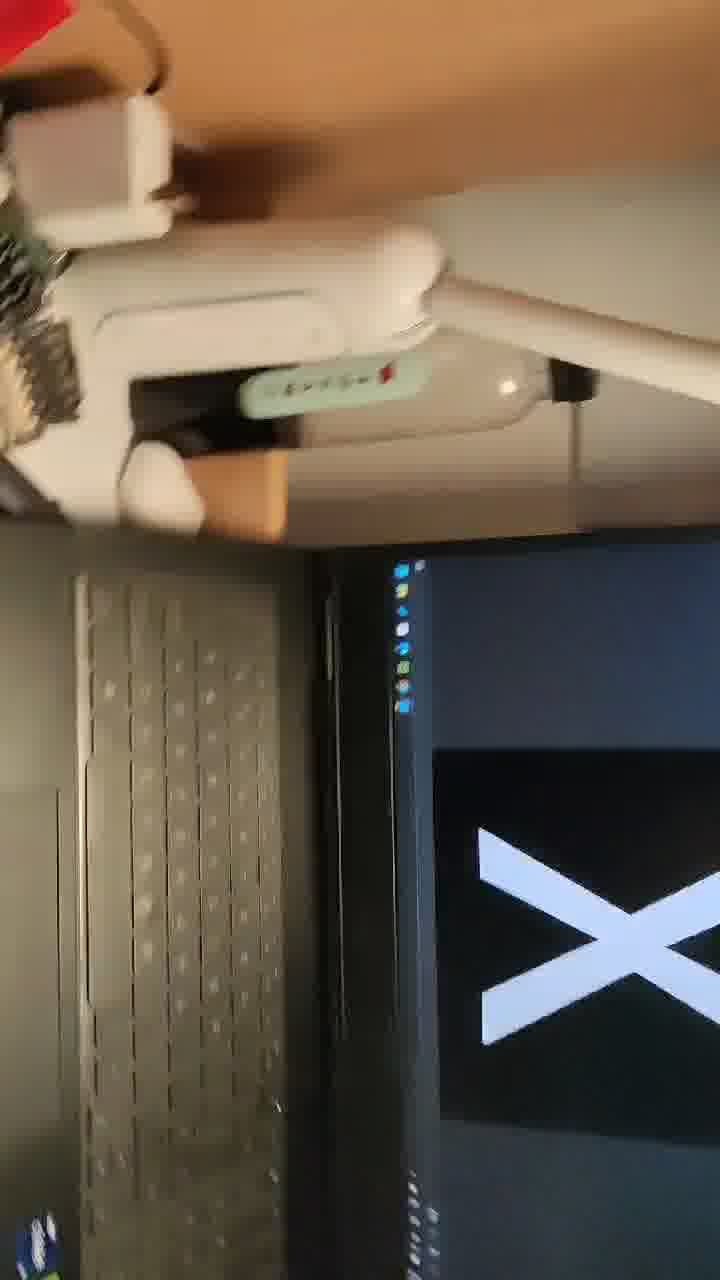X: (455, 741, 720, 1168)
